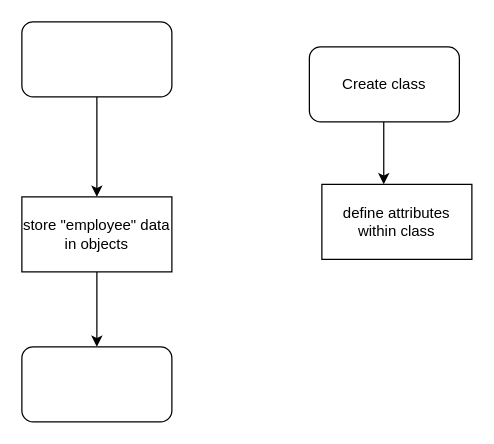
The diagram is 494 pixels wide and 444 high, and some of its shapes have lost their labels. The shapes that lost their labels are listed below. From the top down, each one's centre as x and y in pixels, then its label:
pixel 96 59: Create "employee" data
pixel 96 384: print objects
